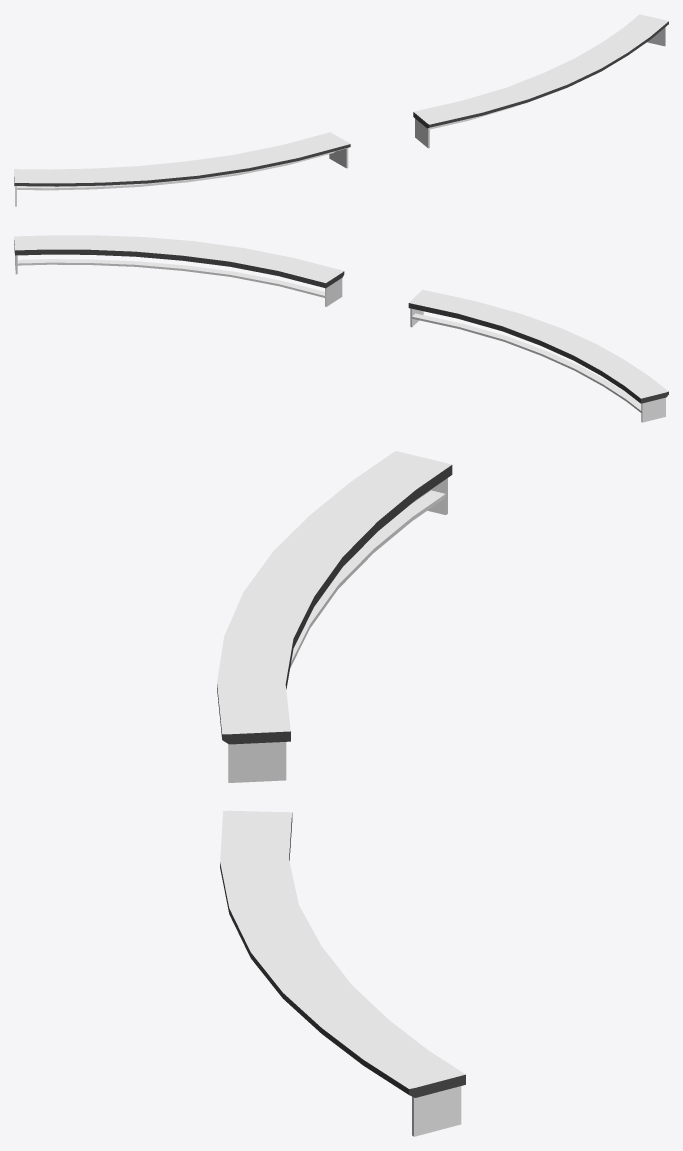
File: SittingChair4.fbx
The picture shows the model from 3 angles, top to bottom: view 1: azimuth 30°, elevation 25°; view 2: azimuth 150°, elevation 25°; view 3: azimuth 270°, elevation 25°; orthographic projection. The views are drawn at different scales.
Visible parts, largest first — view 1: SittingChair4; view 2: SittingChair4; view 3: SittingChair4.
Boxes of the visible parts, box(x1,y1,x2,y2) form: SittingChair4: box(14, 14, 668, 206); SittingChair4: box(14, 235, 668, 422); SittingChair4: box(217, 451, 465, 1136).
Bounding box in the file's own units: 1580 × 60.26 × 262.
Materials: 1 (1 with a texture image).
